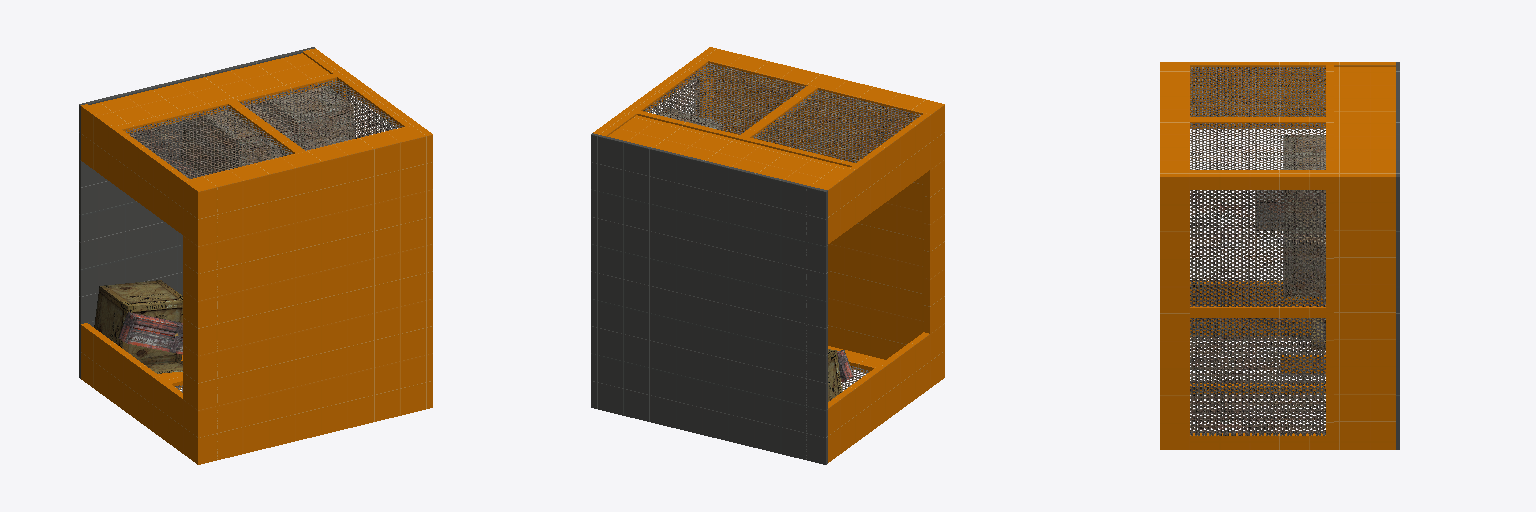
3 views of the same model, side by side, from view 1: azimuth 30°, elevation 25°; view 2: azimuth 150°, elevation 25°; view 3: azimuth 270°, elevation 25° (orthographic).
Parts seen in each view (by area): view 1: 22, 43, 23, 8, 17, 3, 41, 18, 21, 42, 38, 4 (+4 smaller); view 2: 43, 22, 23, 8, 17, 3, 18, 21, 4, 6, 5, 7 (+1 smaller); view 3: 24, 9, 23, 3, 20, 8, 7, 22, 21, 10, 13, 11 (+9 smaller).
Part boxes in pixels (x1,y1,x2,y2): 22: (195,132,432,464); 43: (79,47,314,378); 23: (126,79,402,178); 8: (81,104,188,234); 17: (81,323,182,453); 3: (89,53,331,126); 41: (94,280,182,364); 18: (183,179,200,461); 21: (190,125,421,186); 42: (118,312,182,354); 38: (181,104,296,174); 4: (119,73,339,133); 43: (591,133,827,464); 22: (707,47,944,379); 23: (643,63,920,162); 8: (822,114,929,243); 17: (828,332,929,462); 3: (608,115,849,188); 18: (924,105,941,387); 21: (702,51,934,117); 4: (635,110,855,166); 6: (599,60,707,136); 5: (741,86,817,138); 7: (593,58,701,134); 24: (1190,190,1325,435); 9: (1334,190,1395,435); 23: (1190,67,1325,169); 3: (1334,67,1395,169); 20: (1168,174,1189,442); 8: (1190,62,1395,116); 7: (1190,174,1395,189); 22: (1160,62,1167,449); 21: (1168,65,1189,173); 10: (1326,190,1333,435); 13: (1190,433,1395,442); 11: (1190,305,1325,317).
Bounding box in the file's own units: 144 × 160 × 127.
9 materials, 9 textured.